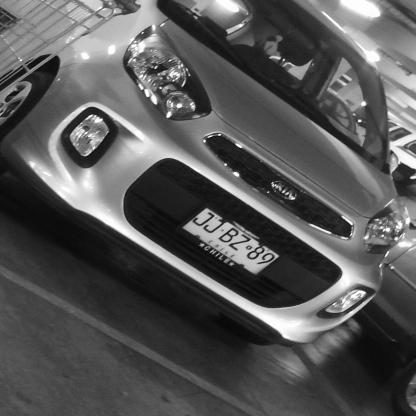Patente: (181, 207, 282, 276)
